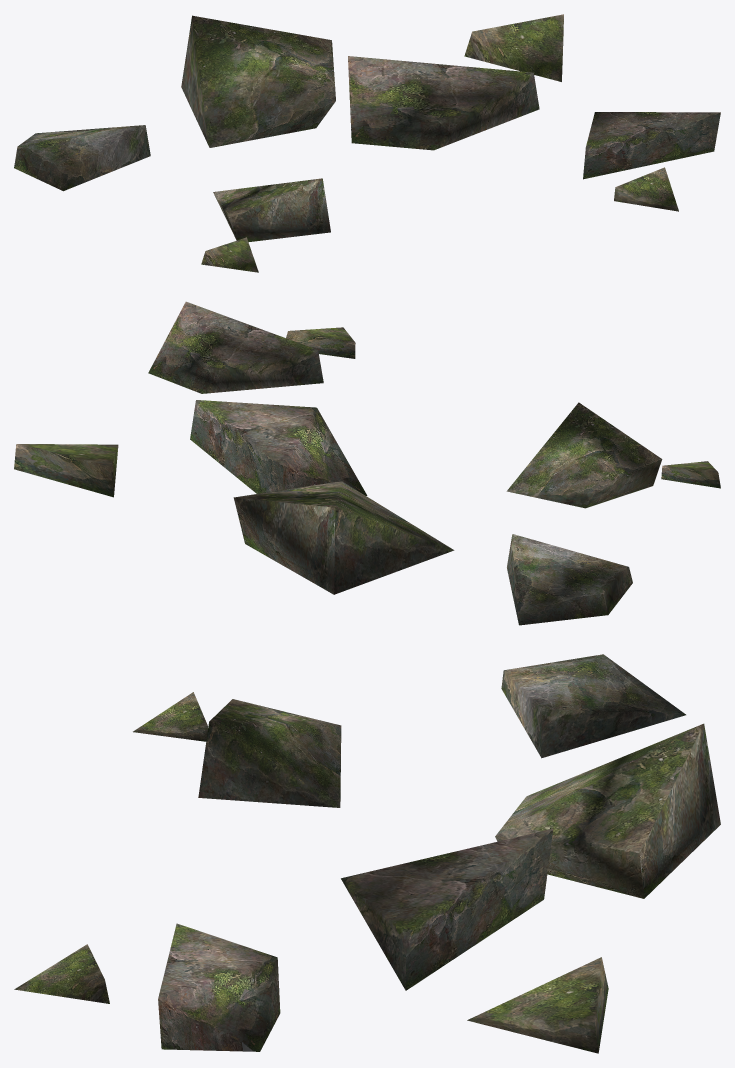
Rendered from Rock02_lod2.glb.
3 views of the same model, one above another, from view 1: azimuth 30°, elevation 25°; view 2: azimuth 150°, elevation 25°; view 3: azimuth 270°, elevation 25° (orthographic). The views are drawn at different scales.
Visible parts, largest first — view 1: common_rock_02_lod02; view 2: common_rock_02_lod02; view 3: common_rock_02_lod02.
Part boxes in pixels (left/top/right/bottom): common_rock_02_lod02: left=14, top=14, right=720, bottom=272; common_rock_02_lod02: left=14, top=301, right=720, bottom=625; common_rock_02_lod02: left=14, top=654, right=720, bottom=1053.
Bounding box in the file's own units: 3.38 × 0.4402 × 2.7.
Materials: 1 (1 with a texture image).
